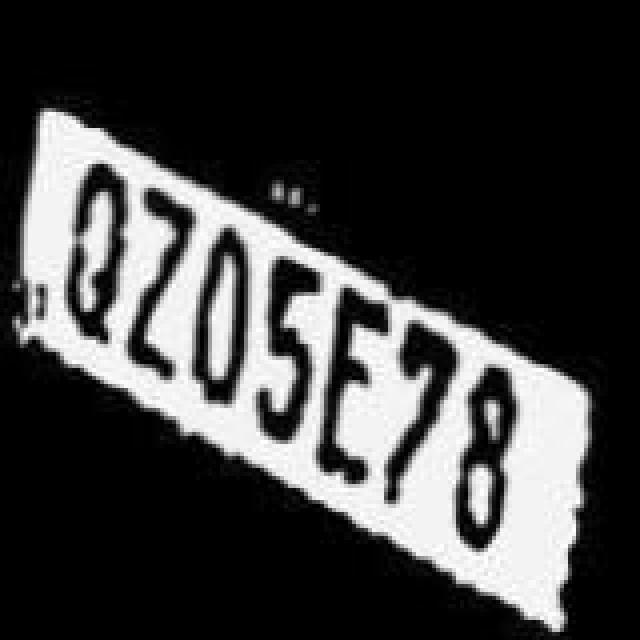5: (258, 236, 322, 460)
7: (384, 322, 456, 506)
8: (452, 358, 516, 558)
E: (318, 288, 394, 488)
O: (188, 216, 256, 420)
Q: (64, 154, 128, 350)
Z: (122, 178, 194, 386)
